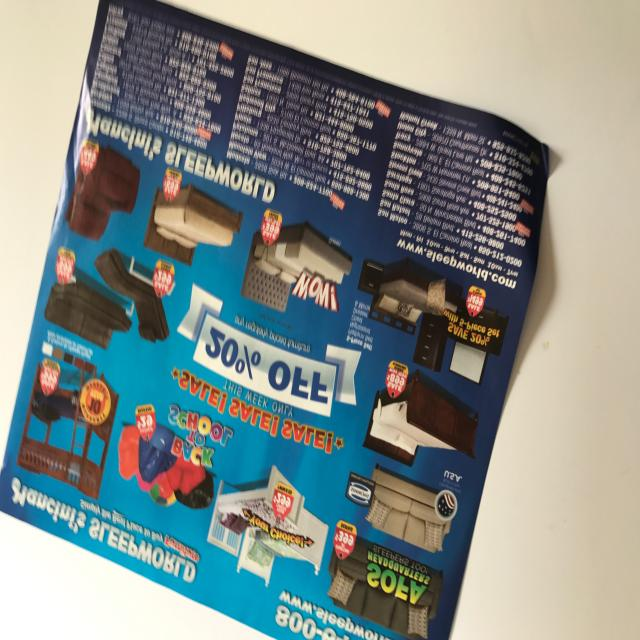paper: (0, 10, 565, 639)
